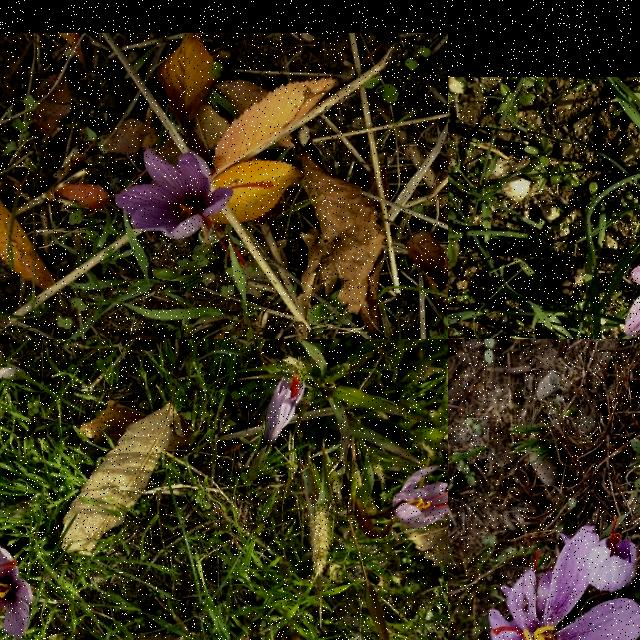flower: (113, 149, 274, 267), (488, 516, 640, 640), (588, 516, 638, 592), (392, 466, 448, 529), (264, 373, 306, 449), (0, 545, 33, 640)
